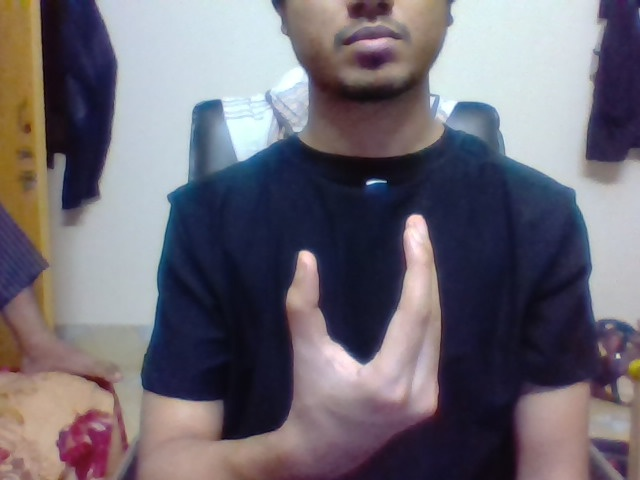U: (271, 205, 452, 388)
